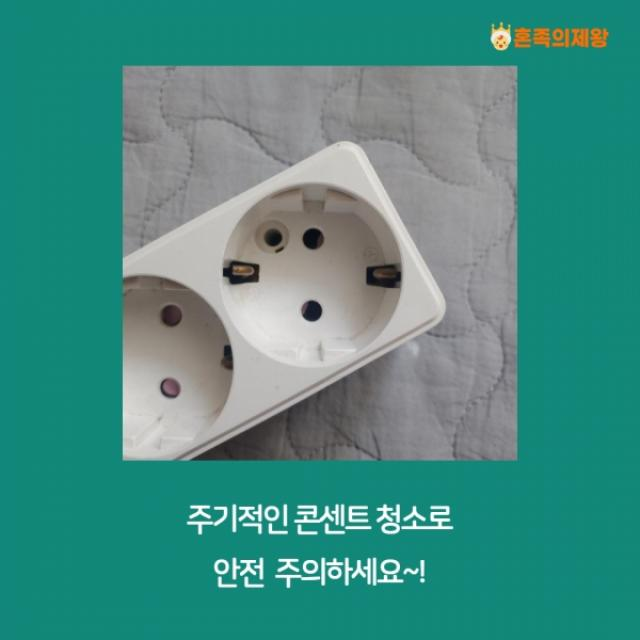typeb: (116, 106, 469, 470)
